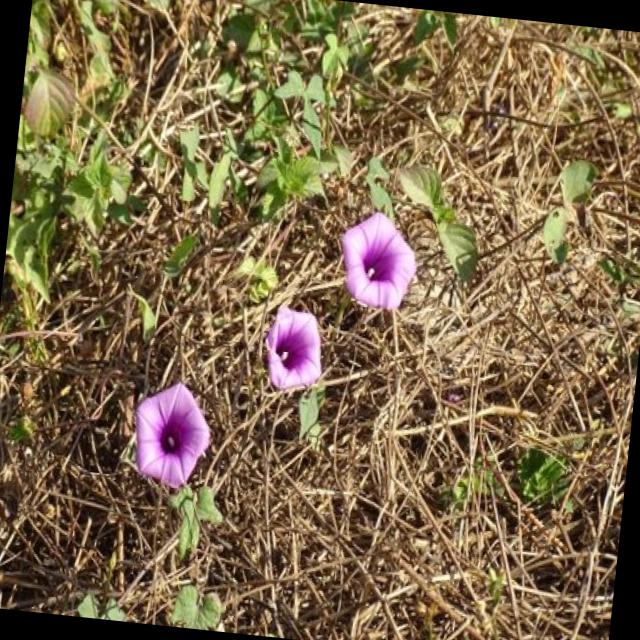ipomoea: (122, 375, 218, 496), (330, 204, 424, 318), (256, 298, 331, 400)
